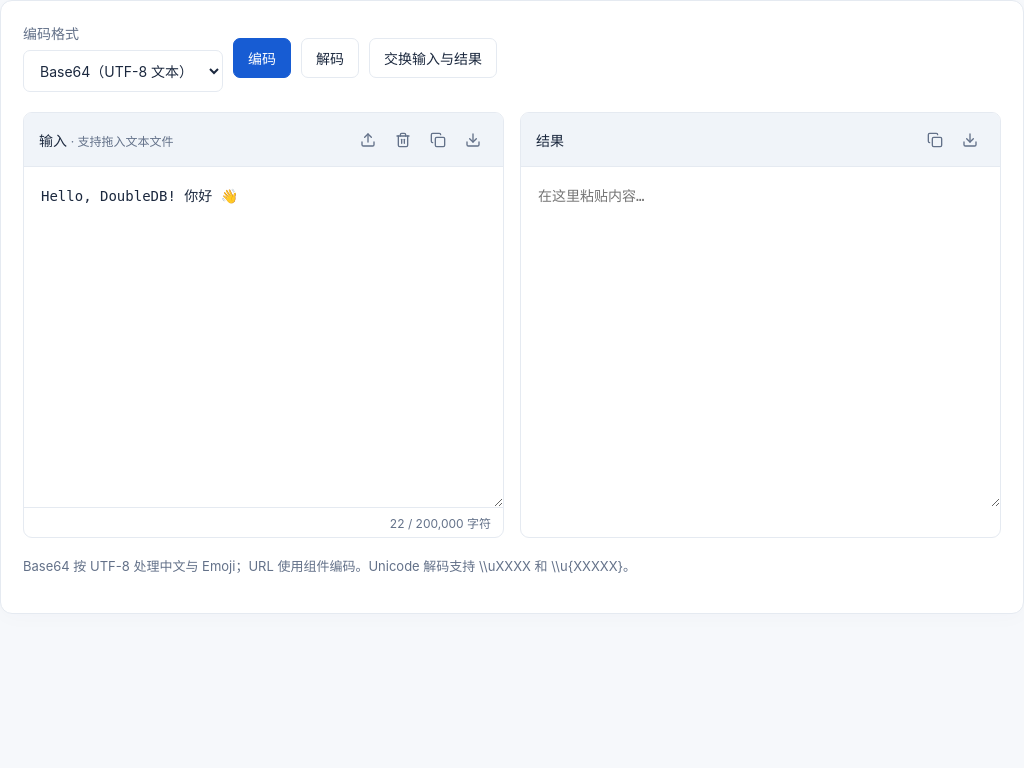
HTML decode cannot create executable markup
The image size is (1024, 768).
Select "HTML 实体" in the dropdown labelled "编码格式". click: (123, 71)
box: [23, 50, 223, 92]
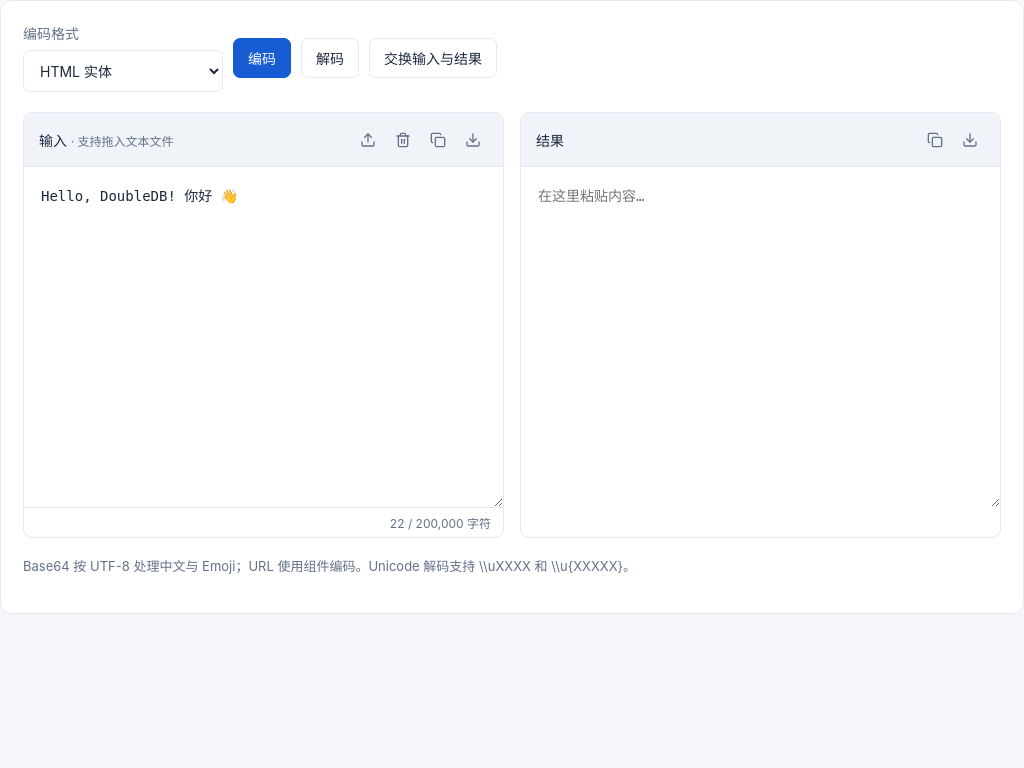
Replace the text in the text box named "输入" with "&lt;img src=x onerror=alert(1)&gt;". click: (264, 337)
box: [24, 167, 503, 507]
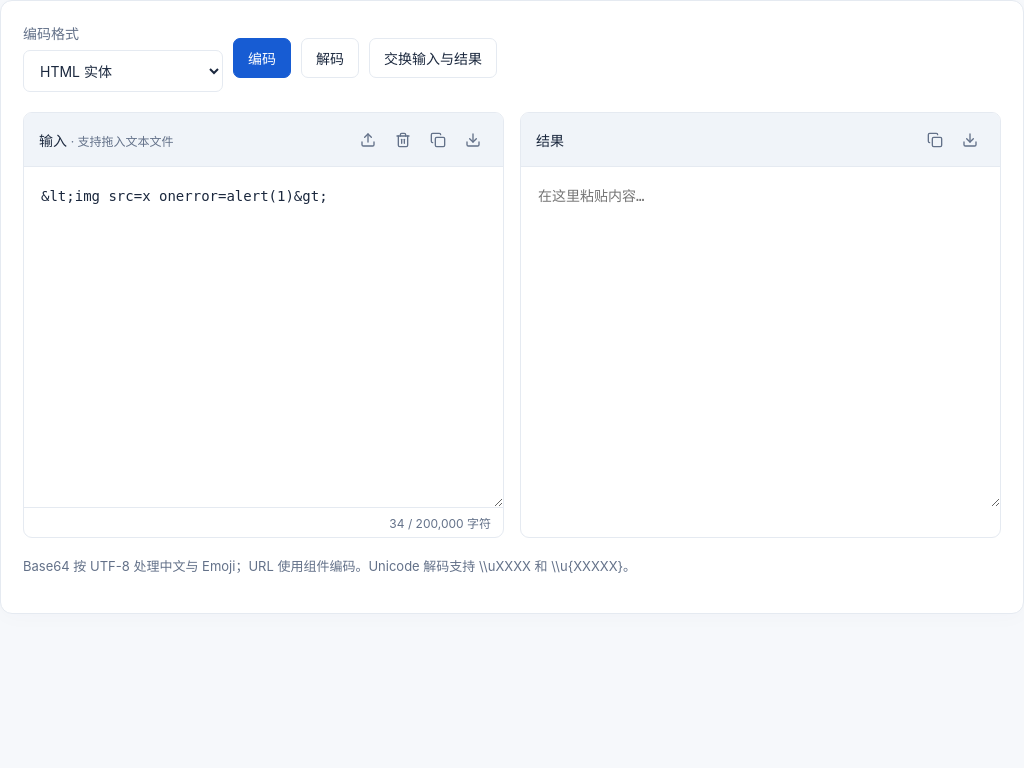
Click the button "解码". click: (330, 58)
box: [301, 38, 359, 78]
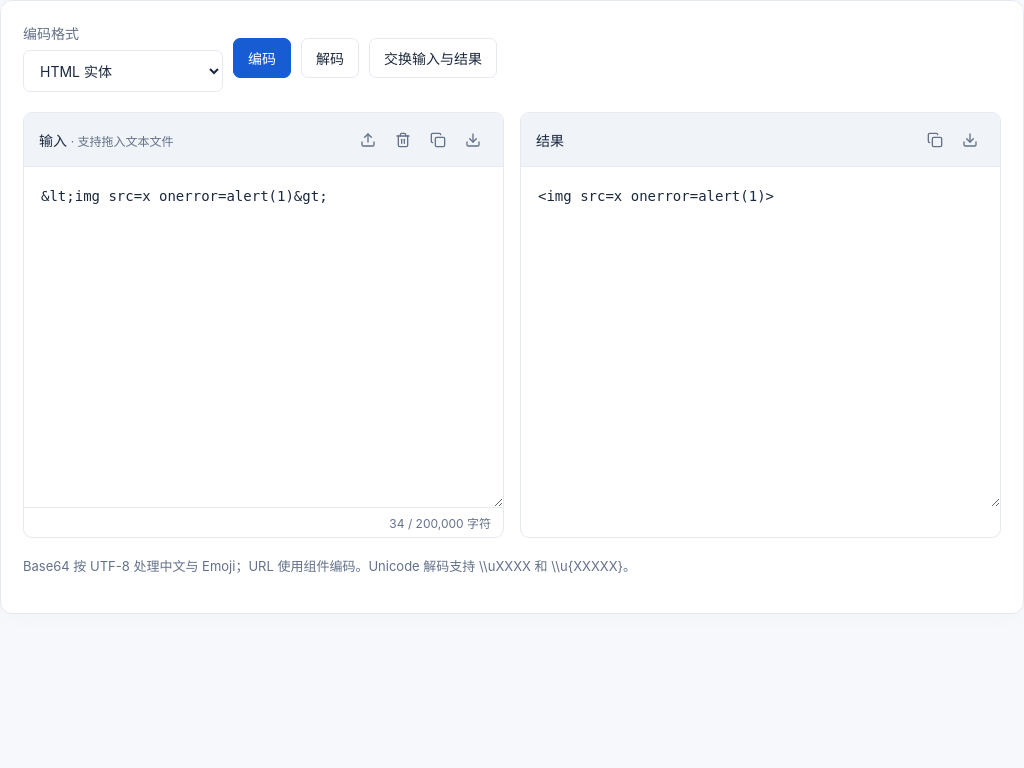
Result: the text box named "结果" holds "<img src=x onerror=alert(1)>" at [521, 167, 1000, 507]
